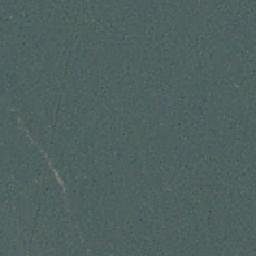debris: (46, 157, 63, 188)
